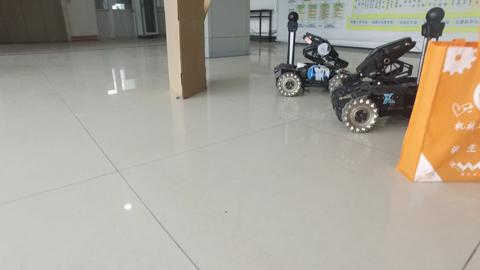box: (163, 1, 207, 100)
chariot: (333, 7, 447, 133), (276, 12, 351, 96)
